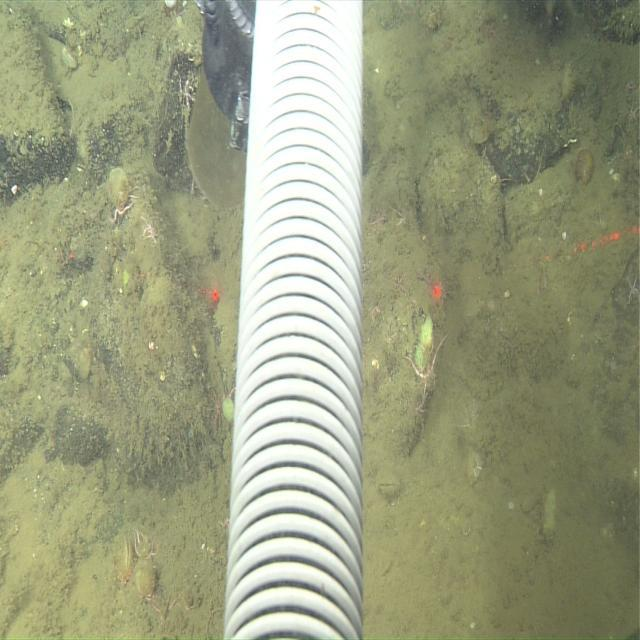Brittle Star: (140, 213, 159, 246), (625, 270, 639, 306), (389, 203, 408, 228)
Not Brittle Star: (406, 334, 449, 404), (416, 310, 436, 366)
